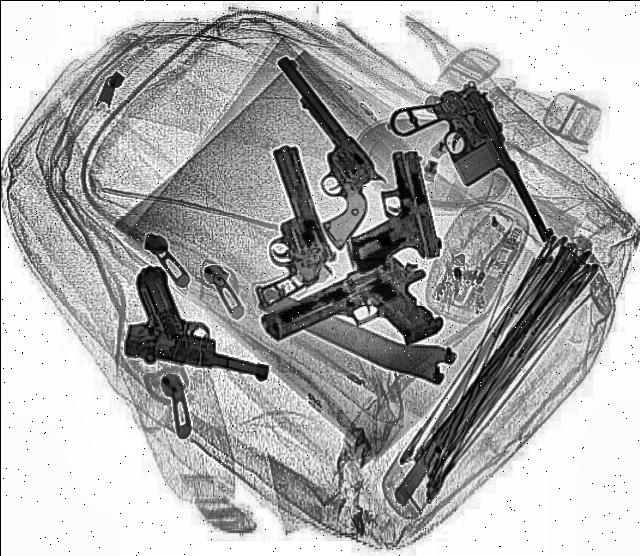Gun: (210, 55, 418, 253), (380, 78, 558, 270), (256, 246, 464, 394), (212, 142, 346, 313), (113, 264, 295, 388), (332, 148, 444, 276)
